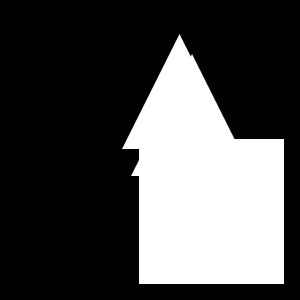circle: (139, 139, 284, 284)
triangle: (131, 54, 253, 176), (122, 34, 237, 149)
